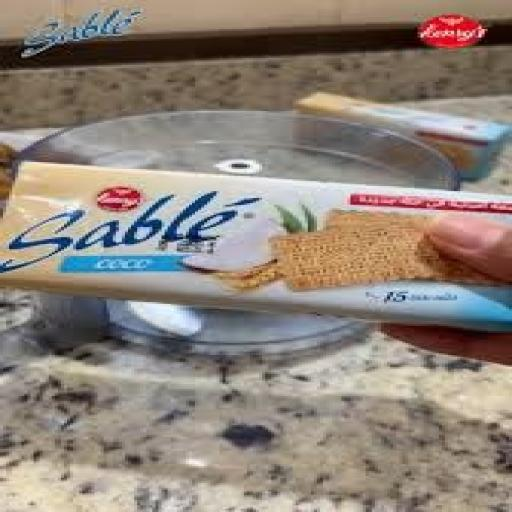sabl: (0, 115, 512, 369)
